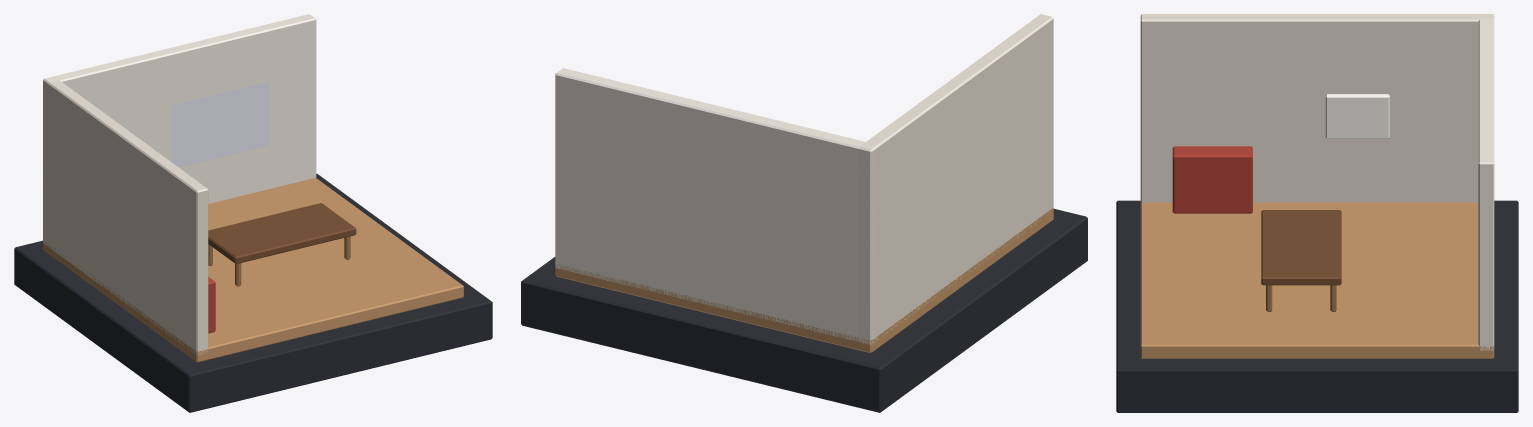
The model's file is portfolio-3d.glb.
3 renders of one model, left to right at view 1: azimuth 30°, elevation 25°; view 2: azimuth 150°, elevation 25°; view 3: azimuth 270°, elevation 25°, orthographic. The views are drawn at different scales.
Visible parts, largest first — view 1: portfolio-3d.mini-wall, portfolio-3d.base, portfolio-3d.mini-floor, portfolio-3d.mini-wall-north, portfolio-3d.screen, portfolio-3d.walnut; view 2: portfolio-3d.mini-wall-north, portfolio-3d.mini-wall, portfolio-3d.base, portfolio-3d.mini-floor; view 3: portfolio-3d.mini-wall, portfolio-3d.mini-floor, portfolio-3d.base, portfolio-3d.walnut, portfolio-3d.mini-wall-north, portfolio-3d.book-b, portfolio-3d.paper, portfolio-3d.oak.
Part boxes in pixels (box(x1,y1,x2,y2)): portfolio-3d.mini-wall: box(43, 76, 208, 354); portfolio-3d.base: box(14, 174, 492, 412); portfolio-3d.mini-floor: box(43, 178, 463, 362); portfolio-3d.mini-wall-north: box(43, 14, 316, 242); portfolio-3d.screen: box(171, 81, 268, 167); portfolio-3d.walnut: box(208, 203, 356, 263); portfolio-3d.mini-wall-north: box(555, 68, 877, 344); portfolio-3d.mini-wall: box(858, 14, 1053, 344); portfolio-3d.base: box(521, 208, 1087, 412); portfolio-3d.mini-floor: box(555, 207, 1053, 353); portfolio-3d.mini-wall: box(1140, 14, 1494, 202); portfolio-3d.mini-floor: box(1140, 202, 1494, 358); portfolio-3d.base: box(1116, 200, 1518, 412); portfolio-3d.walnut: box(1261, 210, 1341, 285); portfolio-3d.mini-wall-north: box(1478, 14, 1494, 350); portfolio-3d.book-b: box(1172, 146, 1252, 213); portfolio-3d.paper: box(1325, 94, 1389, 138); portfolio-3d.oak: box(1266, 285, 1336, 311).
Bounding box in the file's own units: 0.5 × 0.33 × 0.5.
